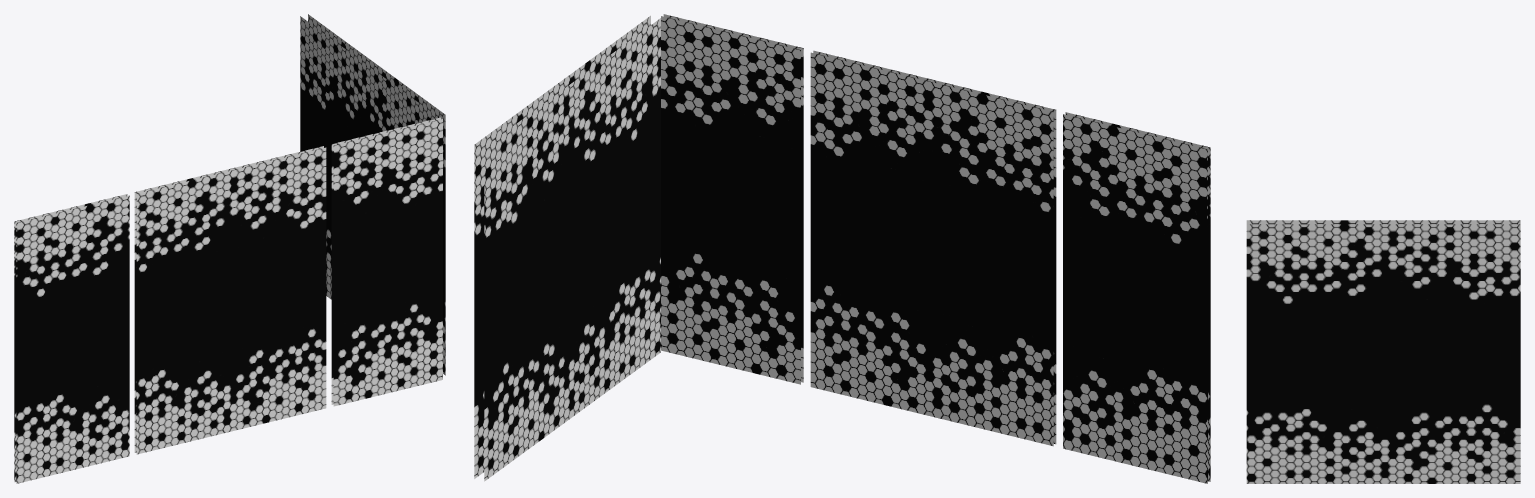
The model's file is window (1).fbx.
3 renders of one model, left to right at view 1: azimuth 30°, elevation 25°; view 2: azimuth 150°, elevation 25°; view 3: azimuth 270°, elevation 25°, orthographic. The views are drawn at different scales.
Visible parts, largest first — view 1: Cube.007, Cube.008, Cube.011, Cube.012, Cube.006; view 2: Cube.006, Cube.007, Cube.008, Cube.011, Cube.012; view 3: Cube.006.
Boxes of the visible parts, left/top/right/bottom form: Cube.007: left=14, top=194, right=129, bottom=483; Cube.008: left=331, top=117, right=442, bottom=406; Cube.011: left=134, top=169, right=231, bottom=454; Cube.012: left=229, top=146, right=326, bottom=431; Cube.006: left=300, top=14, right=445, bottom=375; Cube.006: left=474, top=15, right=660, bottom=481; Cube.007: left=1063, top=112, right=1210, bottom=483; Cube.008: left=661, top=14, right=803, bottom=384; Cube.011: left=932, top=80, right=1056, bottom=446; Cube.012: left=810, top=50, right=934, bottom=416; Cube.006: left=1246, top=220, right=1520, bottom=483.
Size of the model in its own units: 674 by 389 by 381.
